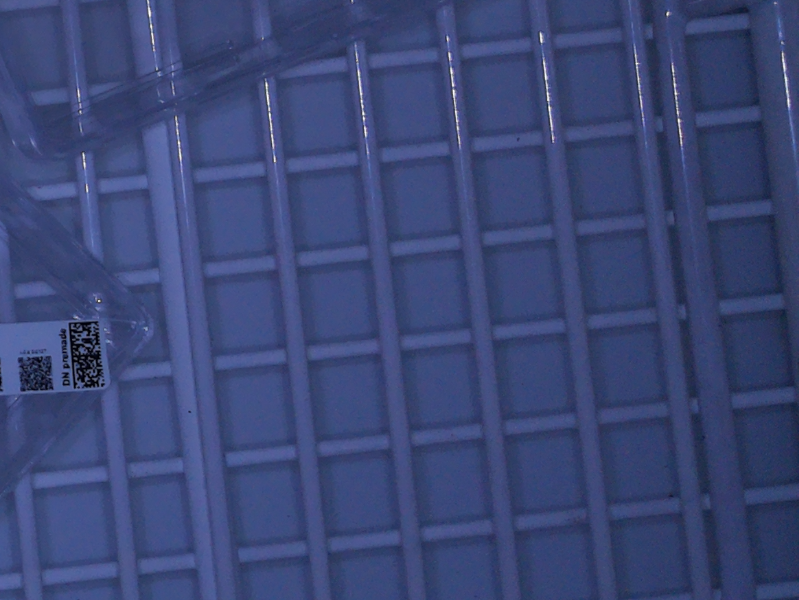plate: (1, 1, 466, 167), (1, 168, 157, 505)
